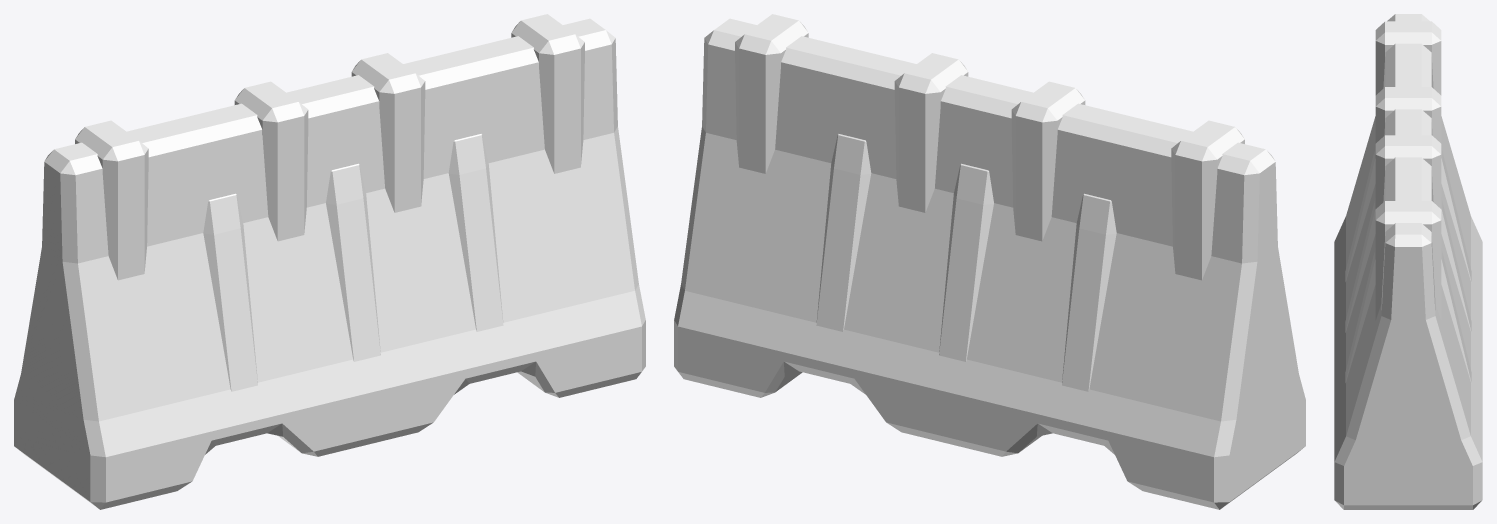
File: Plastic_Barrier_White.fbx
3 views of the same model, side by side, from view 1: azimuth 30°, elevation 25°; view 2: azimuth 150°, elevation 25°; view 3: azimuth 270°, elevation 25° (orthographic). The views are drawn at different scales.
Visible parts, largest first — view 1: Plastic_Barrier_White; view 2: Plastic_Barrier_White; view 3: Plastic_Barrier_White.
Boxes of the visible parts, x1,y1,x2,y2 form: Plastic_Barrier_White: (14, 14, 645, 509); Plastic_Barrier_White: (674, 14, 1305, 509); Plastic_Barrier_White: (1334, 14, 1482, 509).
Size of the model in its own units: 0.0964 by 0.0557 by 0.0264.
Materials: 1 (1 with a texture image).
